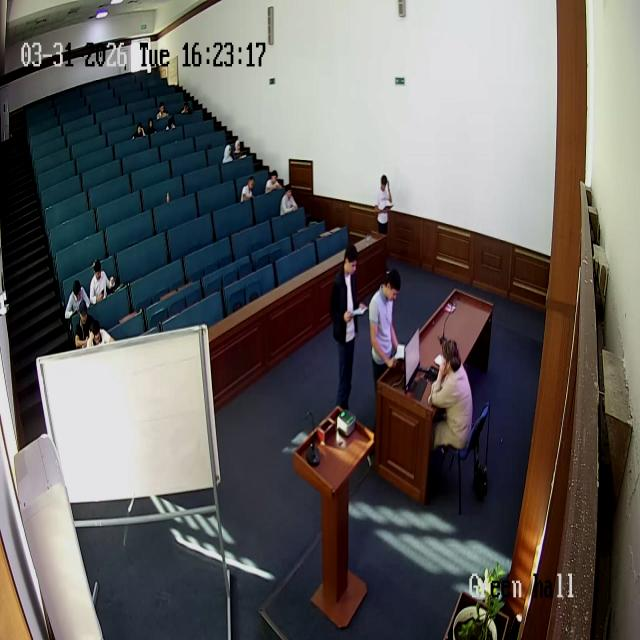person: (426, 339, 474, 472), (329, 242, 363, 410), (368, 267, 402, 428), (89, 259, 115, 305), (64, 281, 91, 323), (73, 298, 95, 348), (374, 173, 392, 232), (84, 318, 114, 349), (280, 184, 298, 216), (240, 174, 256, 201), (265, 170, 281, 193), (222, 143, 234, 164), (132, 122, 146, 140), (232, 140, 244, 159), (144, 117, 156, 136), (156, 102, 168, 120), (166, 113, 176, 130), (180, 100, 190, 116)
